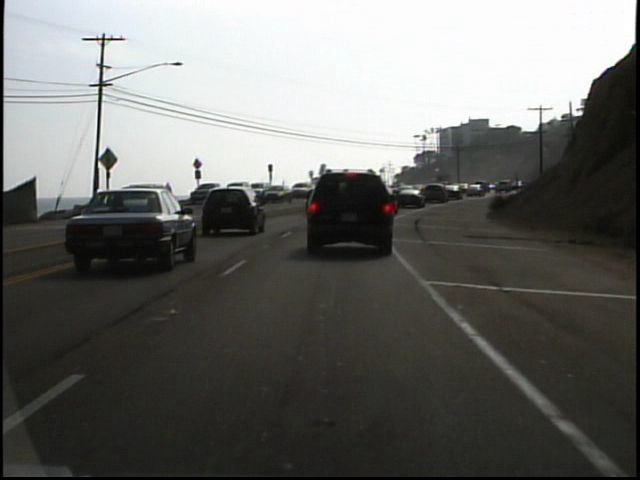person: (161, 179, 177, 208)
